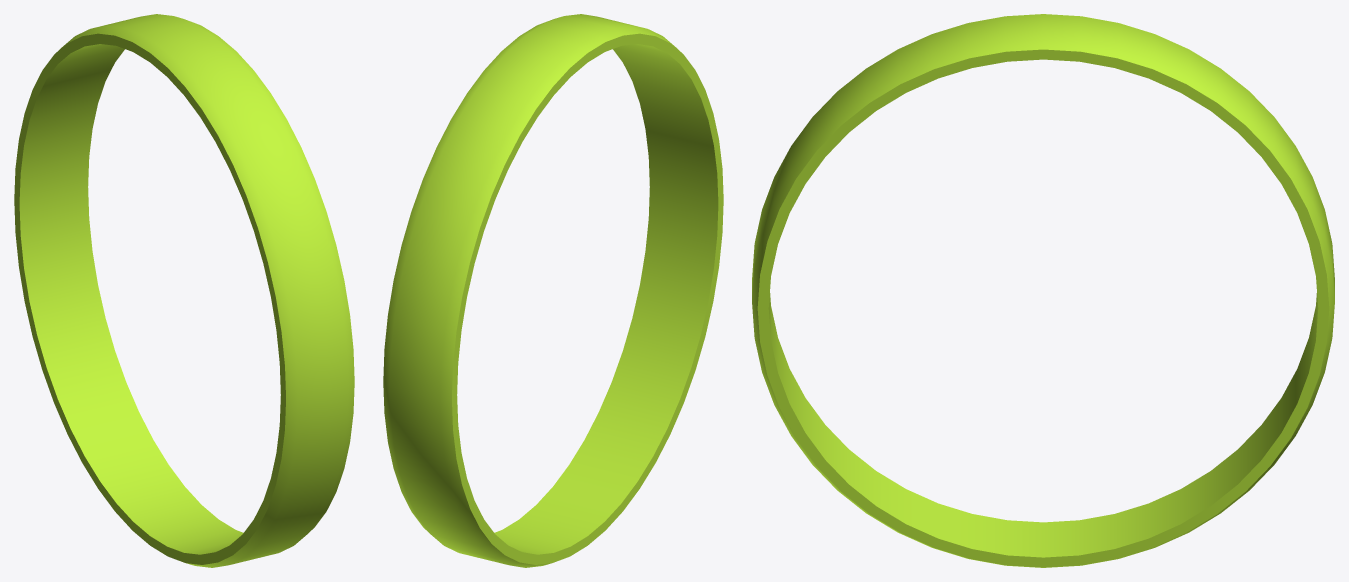
Rendered from BarrelBand.fbx.
The picture shows the model from 3 angles, left to right: view 1: azimuth 30°, elevation 25°; view 2: azimuth 150°, elevation 25°; view 3: azimuth 270°, elevation 25°; orthographic projection. The views are drawn at different scales.
Visible parts, largest first — view 1: BarrelBand; view 2: BarrelBand; view 3: BarrelBand.
Boxes of the visible parts, x1,y1,x2,y2 form: BarrelBand: (14,14,354,567); BarrelBand: (383,14,723,567); BarrelBand: (752,14,1334,567).
Size of the model in its own units: 0.6 by 4.2 by 4.2.
